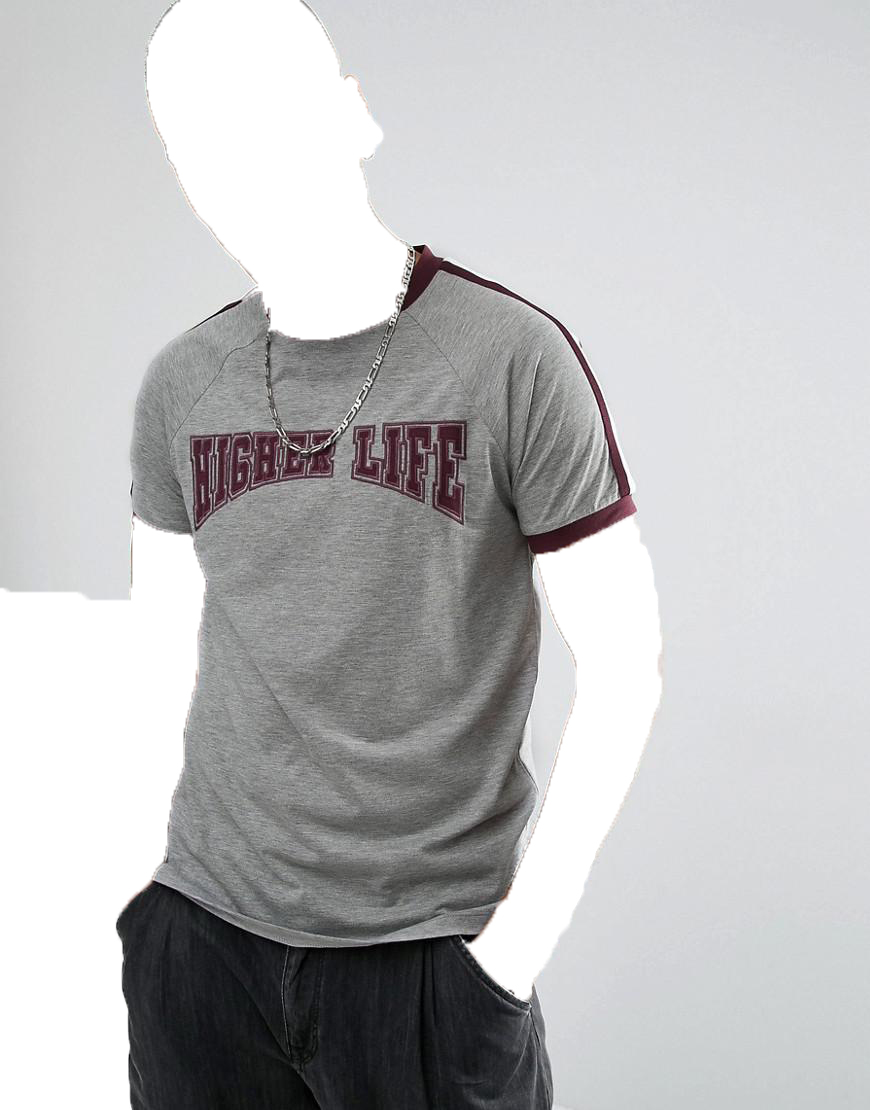teeshirt: (118, 252, 637, 956)
